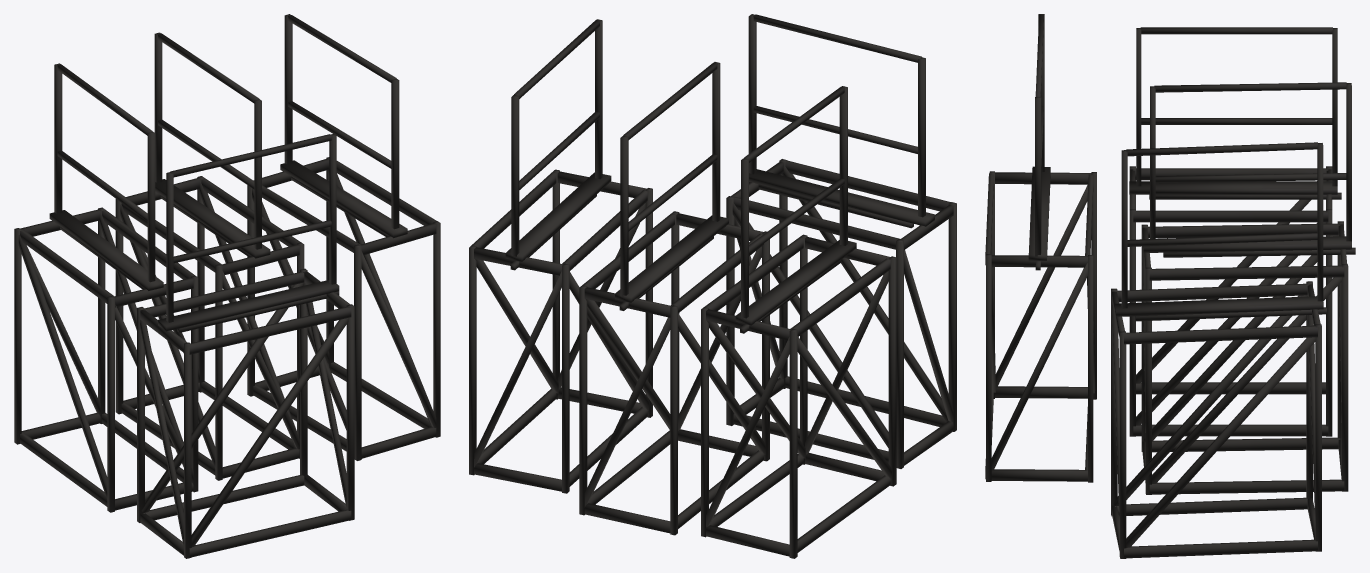
Rendered from Iron_Rode_1.glb.
3 renders of one model, left to right at view 1: azimuth 30°, elevation 25°; view 2: azimuth 150°, elevation 25°; view 3: azimuth 270°, elevation 25°, orthographic. The views are drawn at different scales.
Parts seen in each view (by area): view 1: Iron_Rode_1; view 2: Iron_Rode_1; view 3: Iron_Rode_1.
Boxes of the visible parts, x1=… form: Iron_Rode_1: x1=14, y1=14, x2=440, y2=558; Iron_Rode_1: x1=469, y1=14, x2=956, y2=558; Iron_Rode_1: x1=985, y1=14, x2=1355, y2=558.
Bounding box in the file's own units: 3.96 × 4.25 × 3.69.
1 material, 1 textured.
